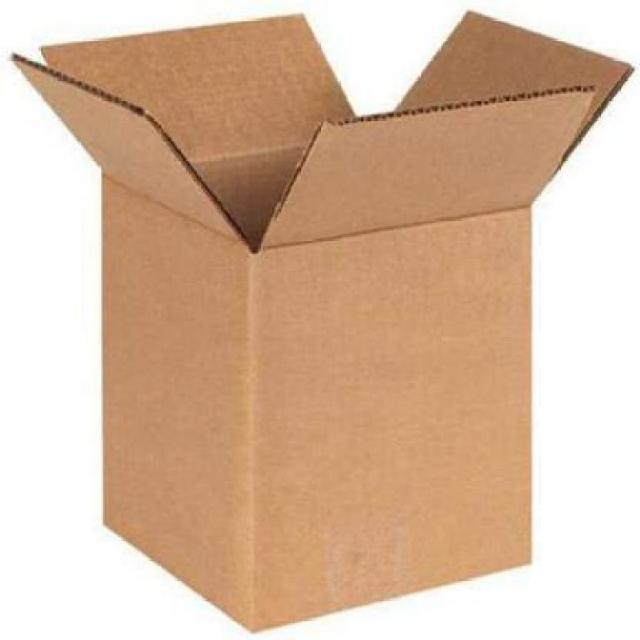box: (21, 17, 617, 630)
